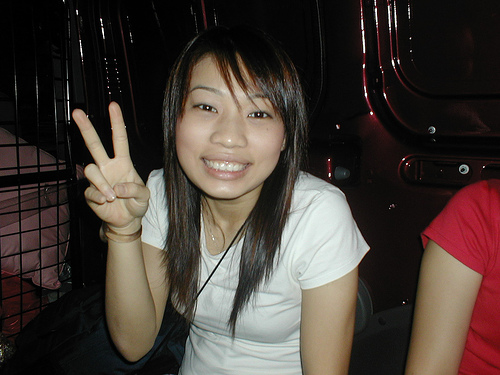without_mask: (173, 62, 286, 194)
